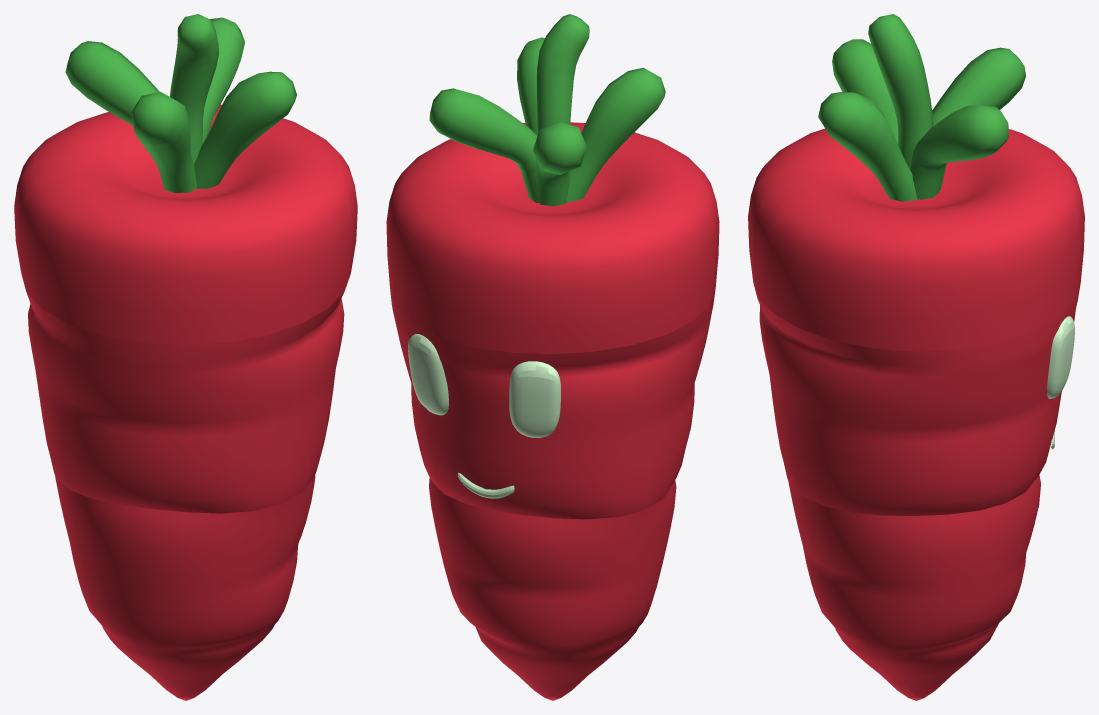
The model's file is rabano.glb.
3 renders of one model, left to right at view 1: azimuth 30°, elevation 25°; view 2: azimuth 150°, elevation 25°; view 3: azimuth 270°, elevation 25°, orthographic. The views are drawn at different scales.
Parts seen in each view (by area): view 1: RabanoTop, RabanoMid, RabanoBottom; view 2: RabanoTop, RabanoMid, RabanoBottom; view 3: RabanoTop, RabanoMid, RabanoBottom.
Part boxes in pixels (x1=…): RabanoTop: x1=14, y1=14, x2=357, y2=344; RabanoMid: x1=26, y1=292, x2=344, y2=513; RabanoBottom: x1=55, y1=475, x2=315, y2=700; RabanoTop: x1=386, y1=14, x2=719, y2=354; RabanoMid: x1=390, y1=288, x2=715, y2=519; RabanoBottom: x1=429, y1=478, x2=676, y2=700; RabanoTop: x1=748, y1=14, x2=1084, y2=351; RabanoMid: x1=753, y1=284, x2=1080, y2=515; RabanoBottom: x1=788, y1=475, x2=1040, y2=700.
Bounding box in the file's own units: 1.17 × 2.61 × 1.17.
